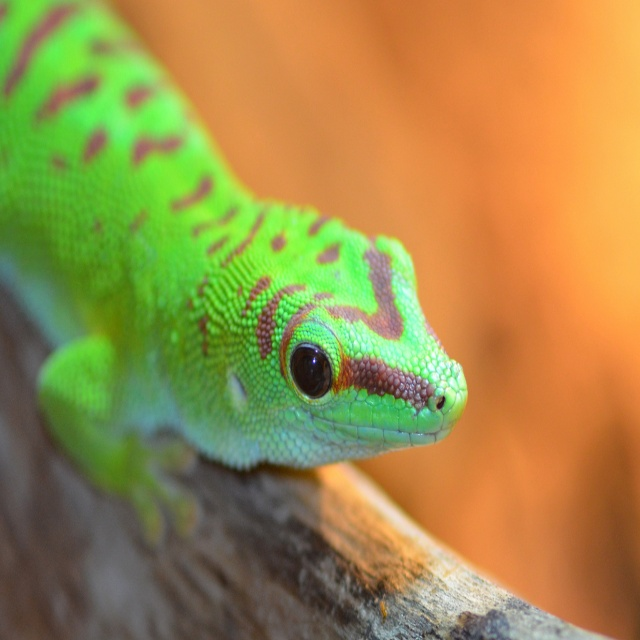Lizard: (0, 0, 468, 548)
